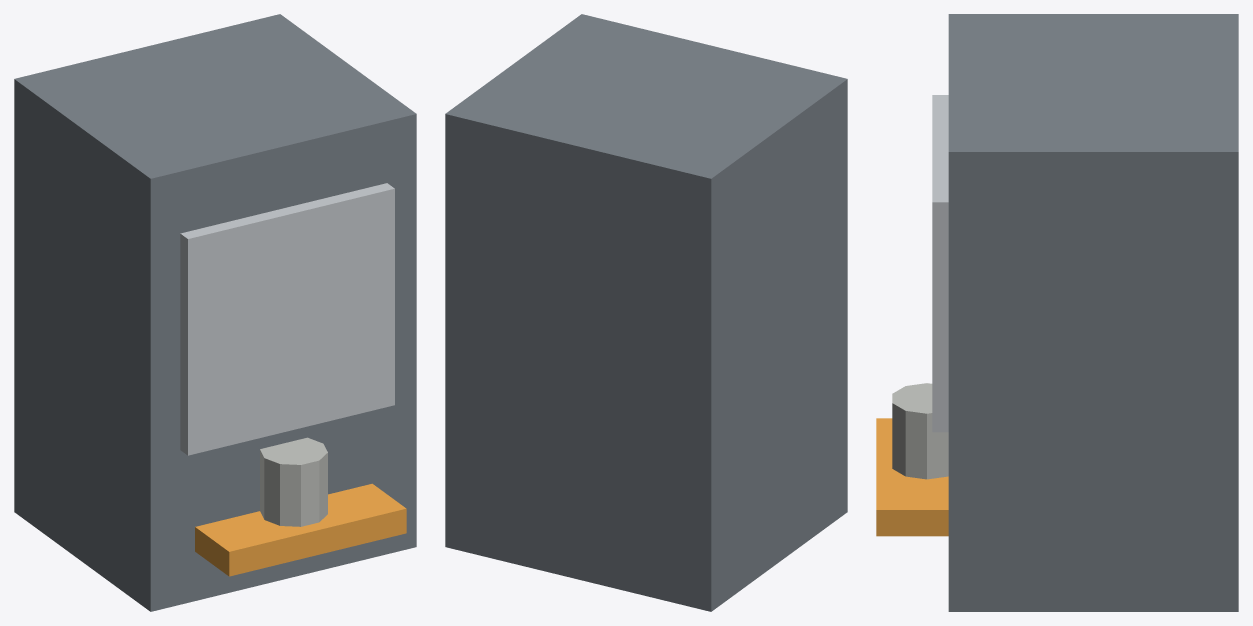
Rendered from mech-hangar-and-battle-frames-coffee-dispenser-6d08d9c9__26997.glb.
3 renders of one model, left to right at view 1: azimuth 30°, elevation 25°; view 2: azimuth 150°, elevation 25°; view 3: azimuth 270°, elevation 25°, orthographic. The views are drawn at different scales.
Parts seen in each view (by area): view 1: coffee-dispenser; view 2: coffee-dispenser; view 3: coffee-dispenser.
Boxes of the visible parts, bbox=[...] form: coffee-dispenser: bbox=[14, 14, 416, 611]; coffee-dispenser: bbox=[445, 14, 847, 611]; coffee-dispenser: bbox=[876, 14, 1238, 611].
Bounding box in the file's own units: 0.45 × 0.7 × 0.5.
